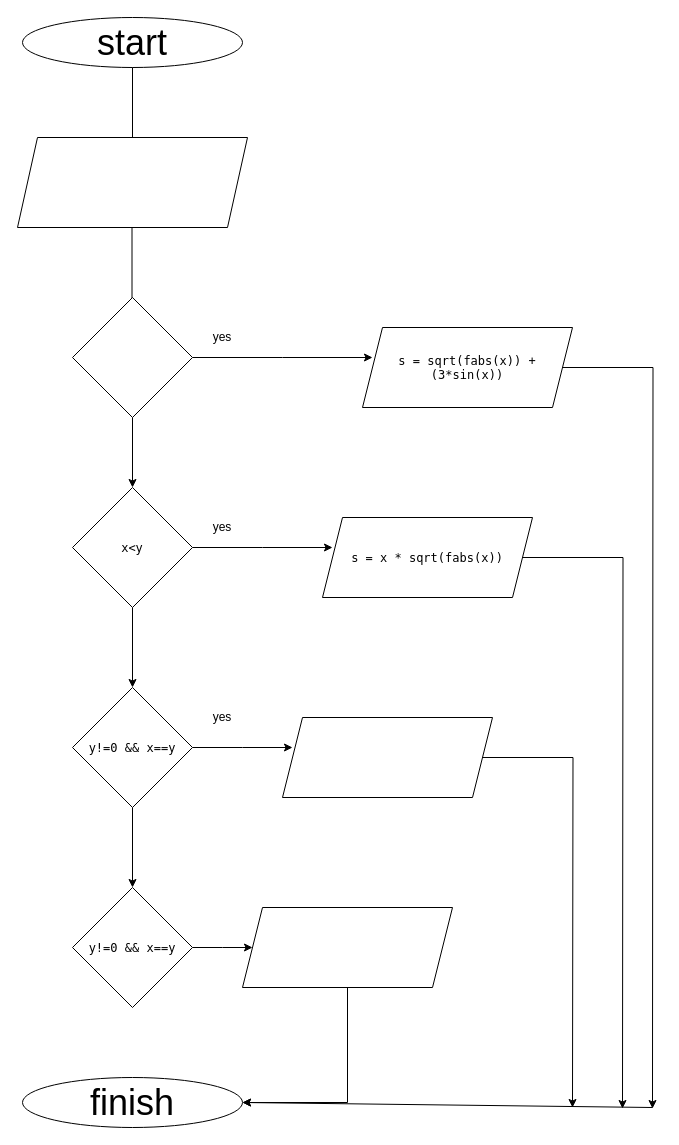
Image size: 679x1145. Some labels were removed from this diagram. The centre of each missing label's shape, as x and y in pixels:
cin>>x>>y: the point at 132,182
ERROR: the point at 387,757
s = pow ( fabs (x), 1 / 3 ) + ( pow (x, 3 )/y): the point at 347,947
x>y: the point at 132,357
